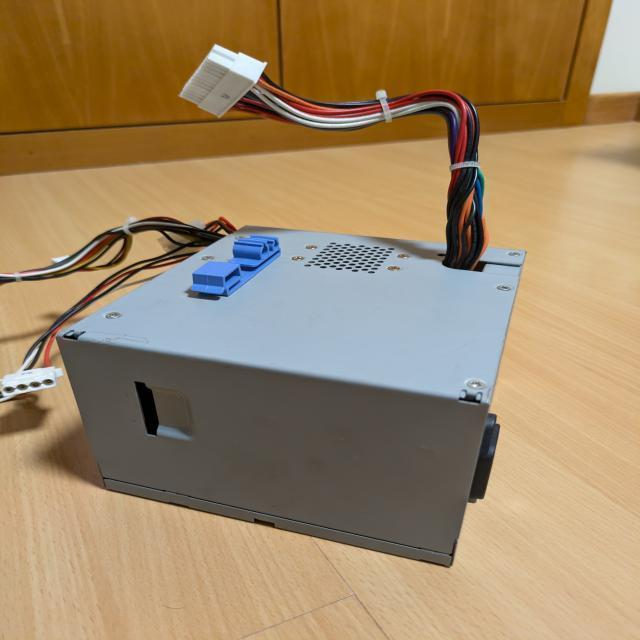PSU: (55, 224, 528, 569)
